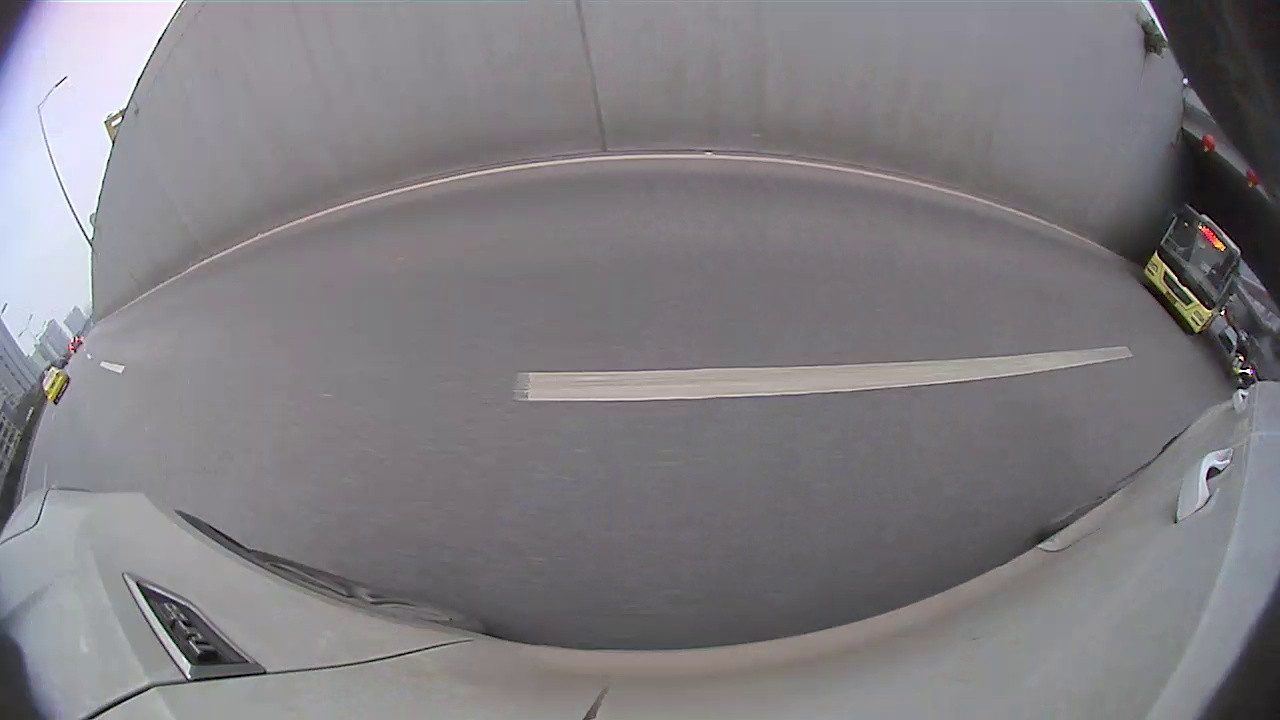bus: (894, 110, 1279, 401)
car: (2, 213, 361, 493), (825, 130, 1115, 303), (414, 127, 556, 229), (744, 155, 794, 198)
front: (273, 245, 344, 329), (824, 190, 854, 235)
rear: (942, 221, 1007, 298), (1145, 283, 1204, 354), (497, 189, 517, 221)
truck: (544, 0, 794, 222)
